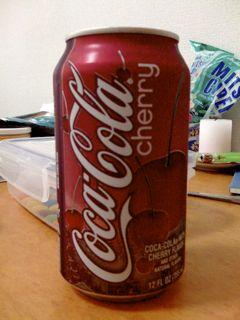metal: (54, 28, 190, 302)
